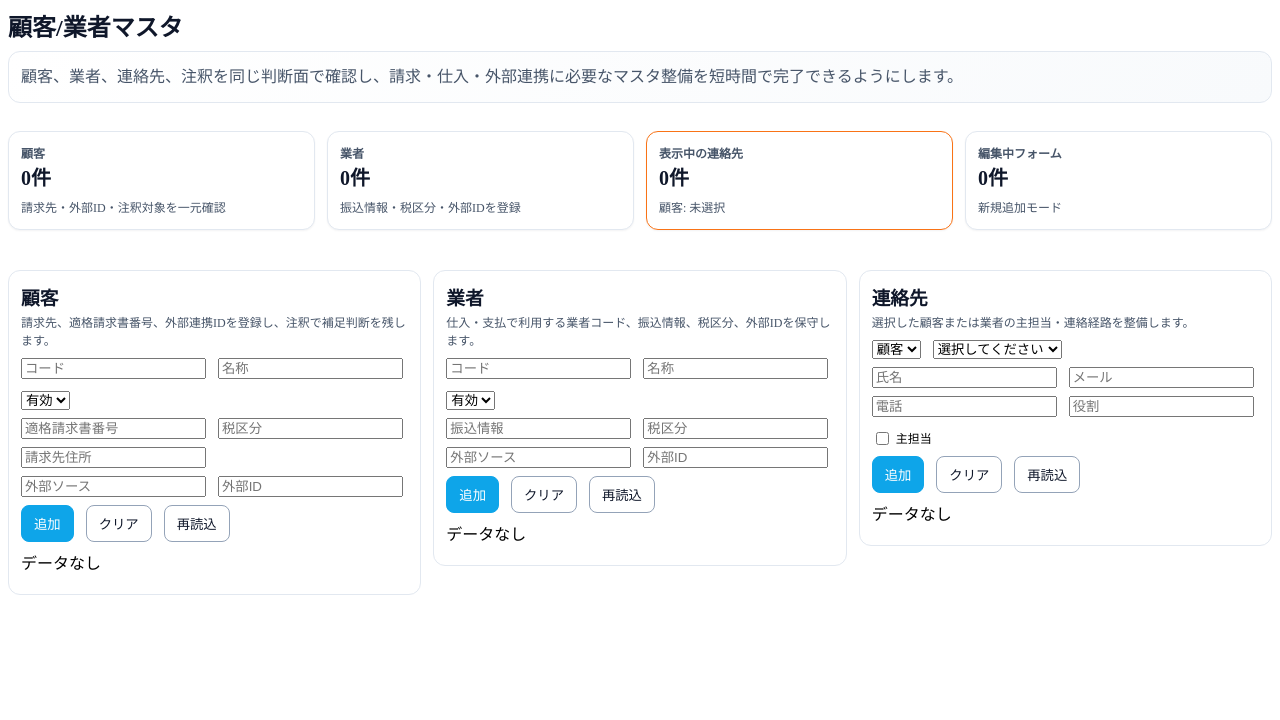
MasterData › creates a vendor contact and reloads vendor contacts
The image size is (1280, 720).
Select "業者" in the dropdown named "連絡先の紐付け種別" at (896, 349), box left=872, top=340, right=921, bottom=359
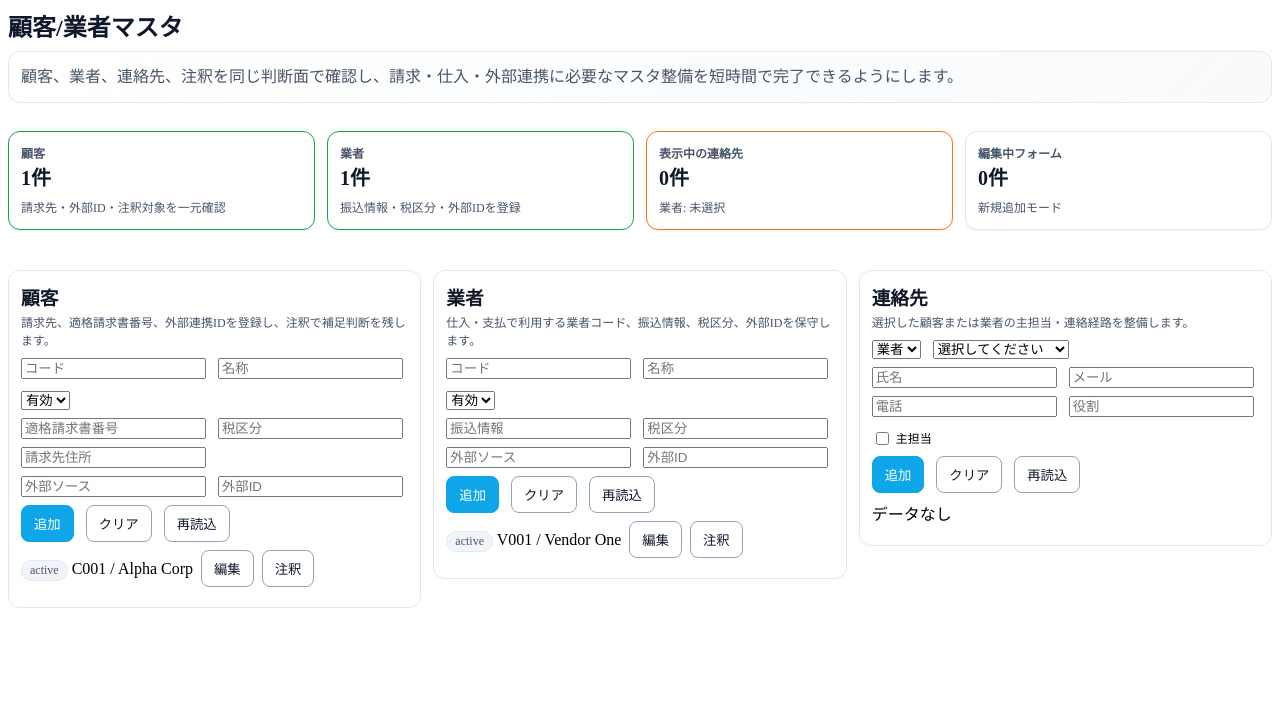
Select "V001 / Vendor One" in the dropdown named "連絡先の紐付け先" at (1001, 349), box left=933, top=340, right=1069, bottom=359
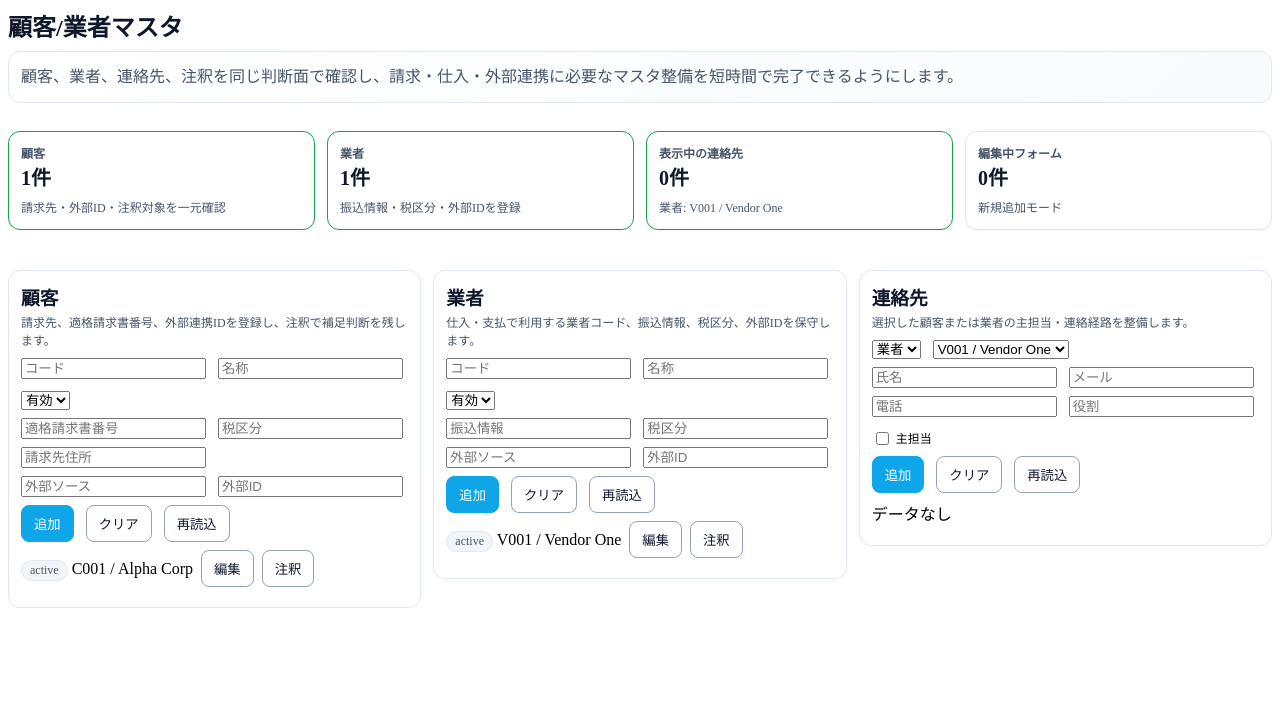
Type "Vendor Contact" into the field named "連絡先氏名" at (964, 377), box left=872, top=367, right=1057, bottom=388
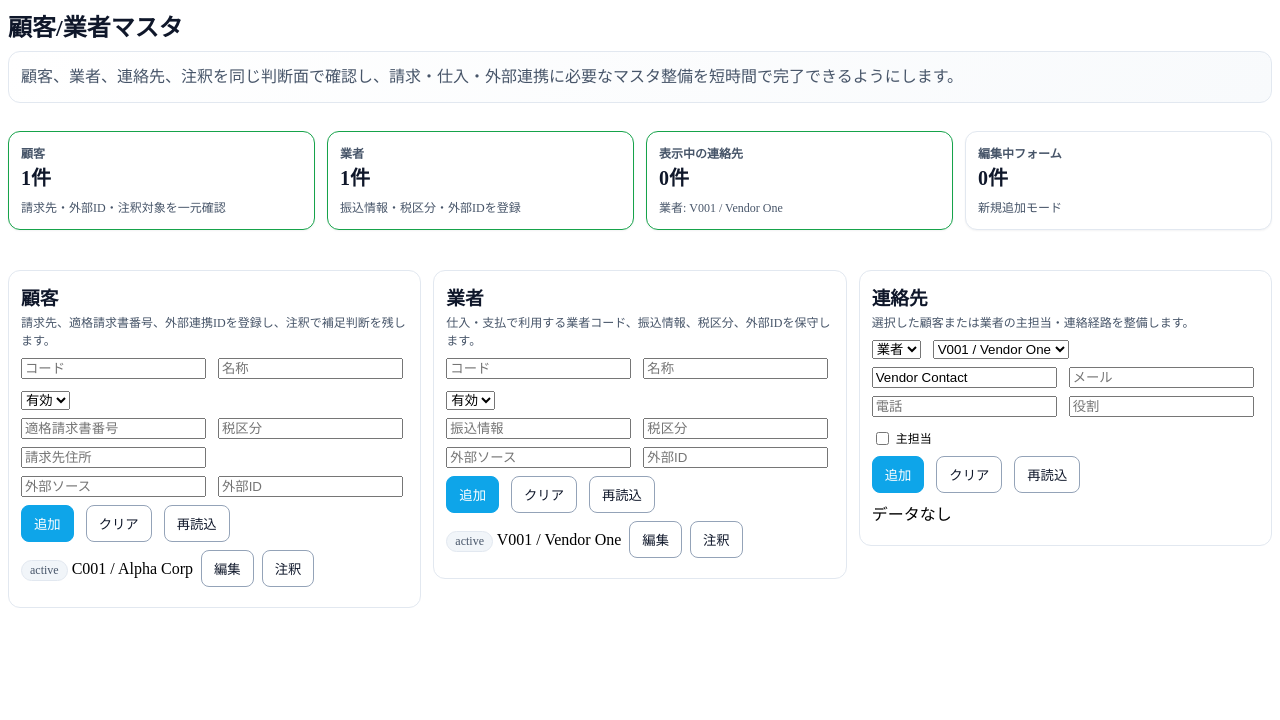
Type "vendor@example.com" into the field named "連絡先メール" at (1161, 377), box left=1069, top=367, right=1254, bottom=388
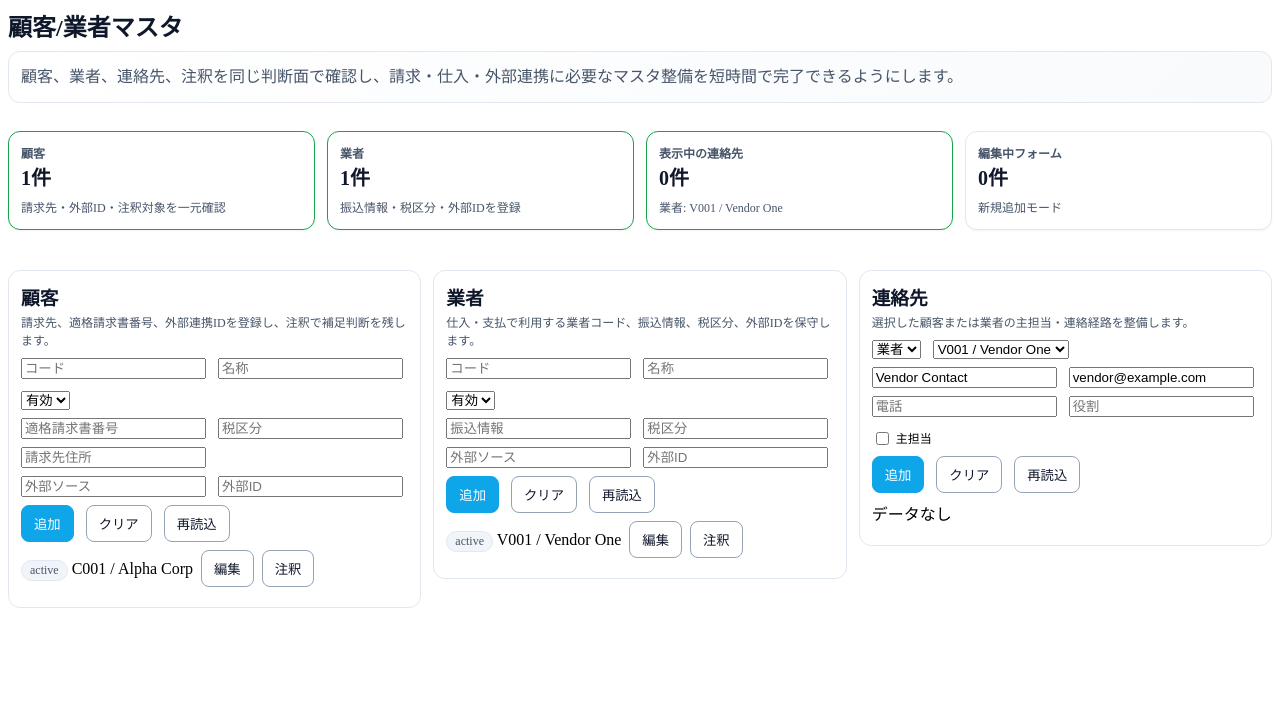
Click the button "追加" below "選択した顧客または業者の主担当・連絡経路を整備します。" at (898, 474), box left=872, top=456, right=924, bottom=493
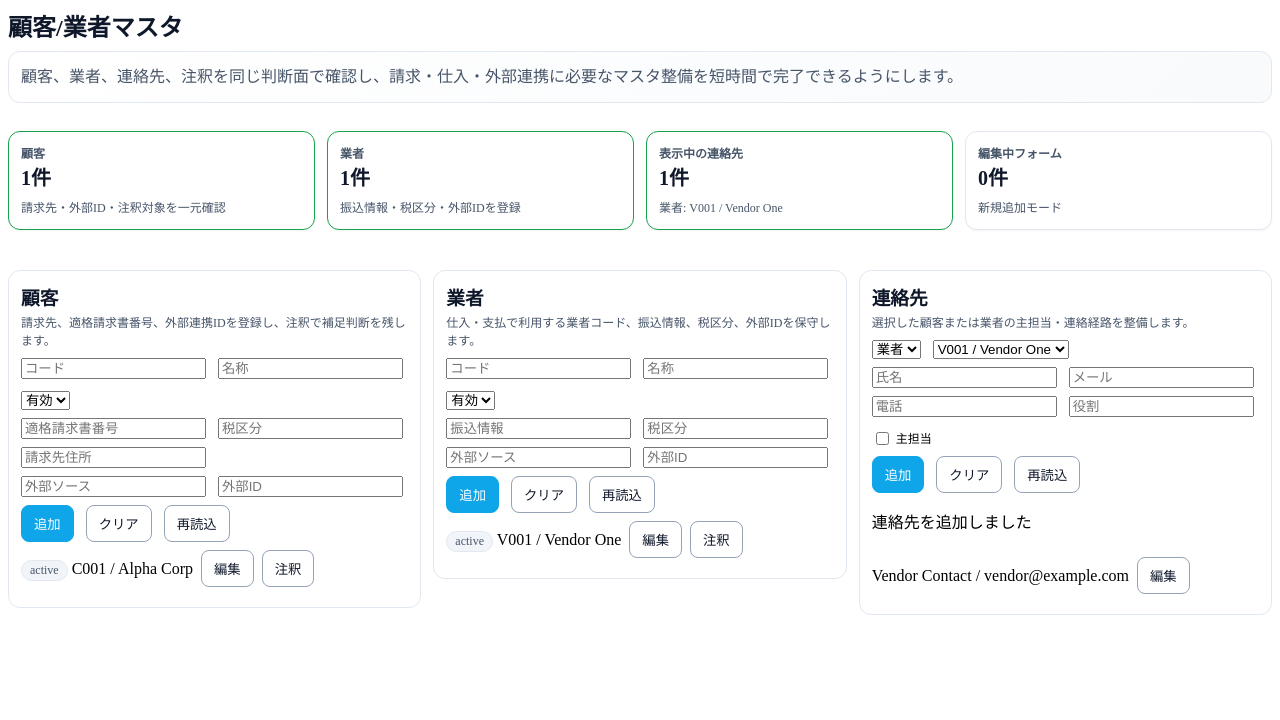
Expected: the text "連絡先を追加しました" is shown, left=872, top=514, right=1032, bottom=531
